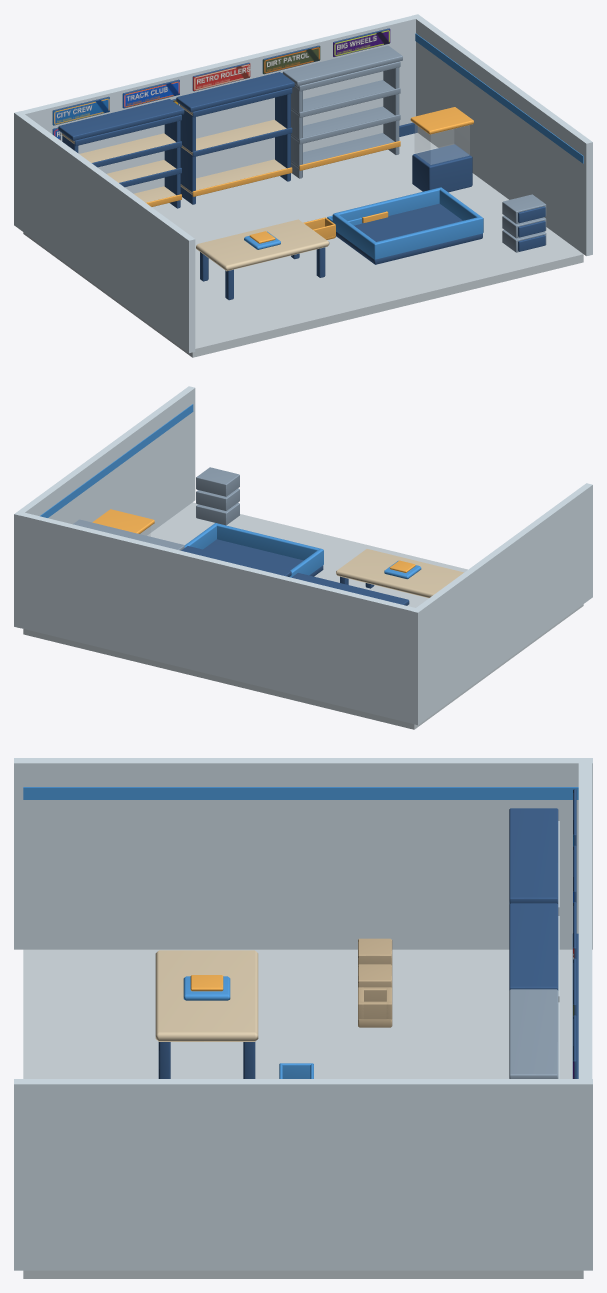
The model's file is SortingRoom_All.fbx.
3 views of the same model, one above another, from view 1: azimuth 30°, elevation 25°; view 2: azimuth 150°, elevation 25°; view 3: azimuth 270°, elevation 25° (orthographic). The views are drawn at different scales.
Visible parts, largest first — view 1: room floor, side wall, side wall.001, back wall, DisplayShelf back, sorting tabletop, pile tray base, premium plinth, IndustrialRack back, TallWallShelf top, IndustrialRack top, DisplayShelf top (+35 smaller); view 2: back wall, side wall, side wall.001, room floor, sorting tabletop, pile tray short wall, pile tray base, wall stripe.001, drawer unit.002, premium case cap, TallWallShelf top, IndustrialRack top (+4 smaller); view 3: side wall.001, side wall, room floor, sorting tabletop, wall stripe, TallWallShelf top, back wall, IndustrialRack top, DisplayShelf top, shipping carton lid, shipping carton lid.001, inspection podium.
Part boxes in pixels (x1=…): room floor: x1=23, y1=133, x2=583, y2=357; side wall: x1=14, y1=111, x2=195, y2=353; side wall.001: x1=412, y1=14, x2=592, y2=256; back wall: x1=21, y1=16, x2=415, y2=134; DisplayShelf back: x1=178, y1=97, x2=274, y2=178; sorting tabletop: x1=196, y1=219, x2=329, y2=271; pile tray base: x1=336, y1=203, x2=482, y2=264; premium plinth: x1=412, y1=144, x2=472, y2=192; IndustrialRack back: x1=303, y1=71, x2=383, y2=152; TallWallShelf top: x1=58, y1=99, x2=184, y2=140; IndustrialRack top: x1=283, y1=45, x2=402, y2=86; DisplayShelf top: x1=176, y1=72, x2=294, y2=112; back wall: x1=20, y1=512, x2=415, y2=723; side wall: x1=411, y1=483, x2=592, y2=725; side wall.001: x1=14, y1=386, x2=195, y2=628; room floor: x1=23, y1=502, x2=583, y2=729; sorting tabletop: x1=336, y1=549, x2=463, y2=598; pile tray short wall: x1=215, y1=523, x2=319, y2=560; pile tray base: x1=203, y1=539, x2=323, y2=576; wall stripe.001: x1=40, y1=404, x2=193, y2=517; drawer unit.002: x1=196, y1=467, x2=239, y2=496; premium case cap: x1=92, y1=509, x2=154, y2=533; TallWallShelf top: x1=292, y1=573, x2=409, y2=605; IndustrialRack top: x1=73, y1=519, x2=184, y2=550; side wall.001: x1=14, y1=1079, x2=592, y2=1270; side wall: x1=14, y1=758, x2=592, y2=949; room floor: x1=23, y1=949, x2=583, y2=1278; sorting tabletop: x1=155, y1=950, x2=258, y2=1041; wall stripe: x1=23, y1=787, x2=578, y2=799; TallWallShelf top: x1=509, y1=808, x2=558, y2=904; back wall: x1=578, y1=763, x2=592, y2=1078; IndustrialRack top: x1=509, y1=989, x2=558, y2=1078; DisplayShelf top: x1=509, y1=903, x2=558, y2=990; shipping carton lid: x1=358, y1=938, x2=392, y2=964; shipping carton lid.001: x1=358, y1=964, x2=392, y2=987; inspection podium: x1=183, y1=976, x2=230, y2=1000.
Bounding box in the file's own units: 1240 × 354 × 930.
